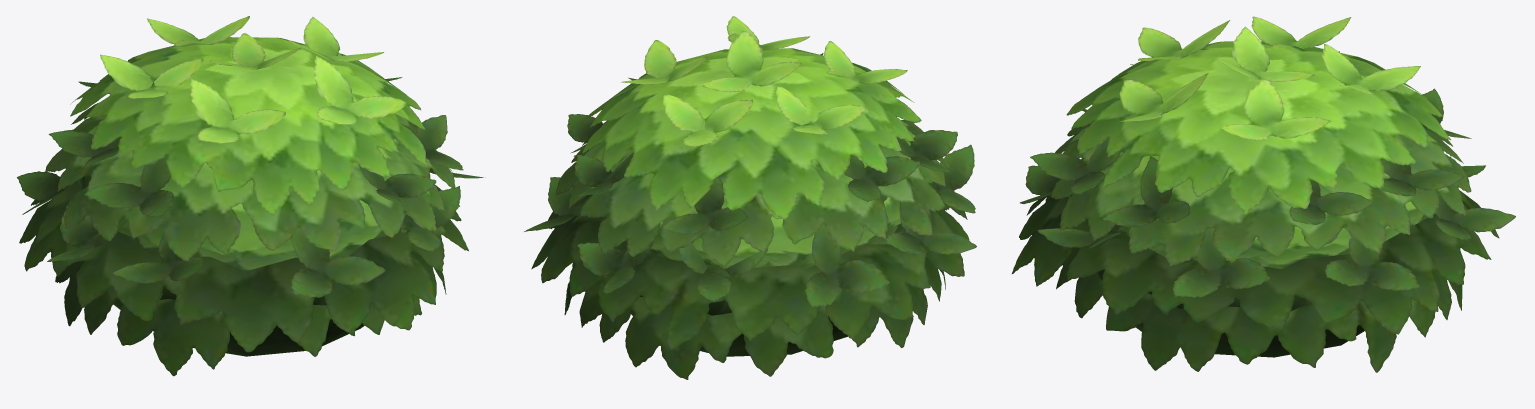
File: bush.glb
The picture shows the model from 3 angles, left to right: view 1: azimuth 30°, elevation 25°; view 2: azimuth 150°, elevation 25°; view 3: azimuth 270°, elevation 25°; orthographic projection. The views are drawn at different scales.
Parts seen in each view (by area): view 1: bush; view 2: bush; view 3: bush.
Part boxes in pixels (<box>): bush: <box>17,16,485,376</box>; bush: <box>524,16,976,379</box>; bush: <box>1012,16,1515,372</box>.
Size of the model in its own units: 1.41 by 0.9 by 1.48.
1 material, 1 textured.
